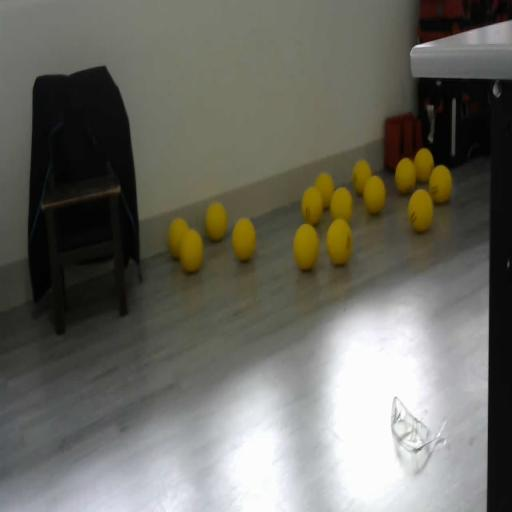FUEL: (292, 222, 320, 270), (326, 218, 352, 266), (178, 226, 204, 273), (231, 216, 257, 262), (408, 188, 434, 232), (204, 200, 228, 242), (362, 174, 386, 215), (429, 164, 452, 204), (329, 186, 353, 224), (314, 172, 335, 209), (395, 157, 416, 194), (414, 147, 434, 183), (352, 158, 371, 188)
